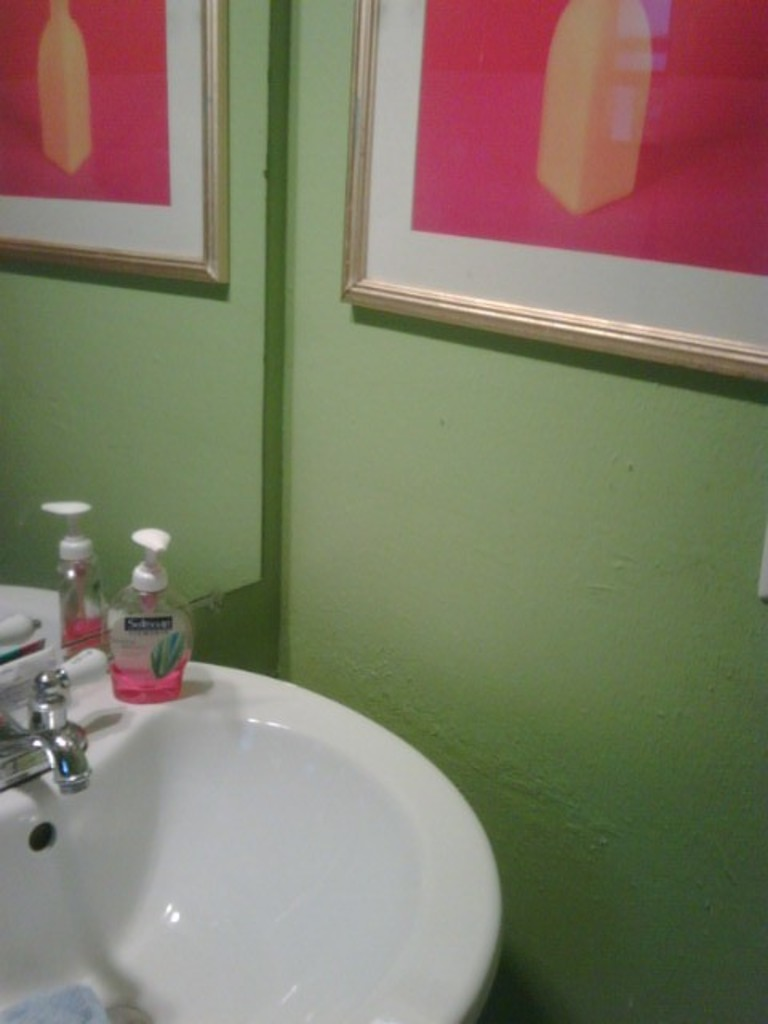tap: (0, 681, 94, 809)
